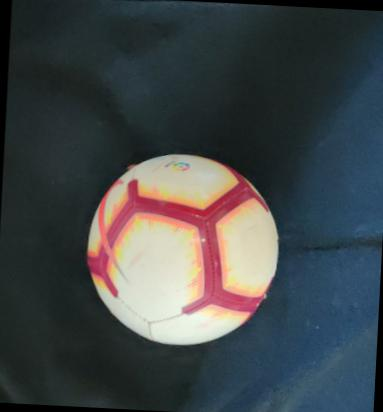Football mini: (80, 144, 283, 352)
